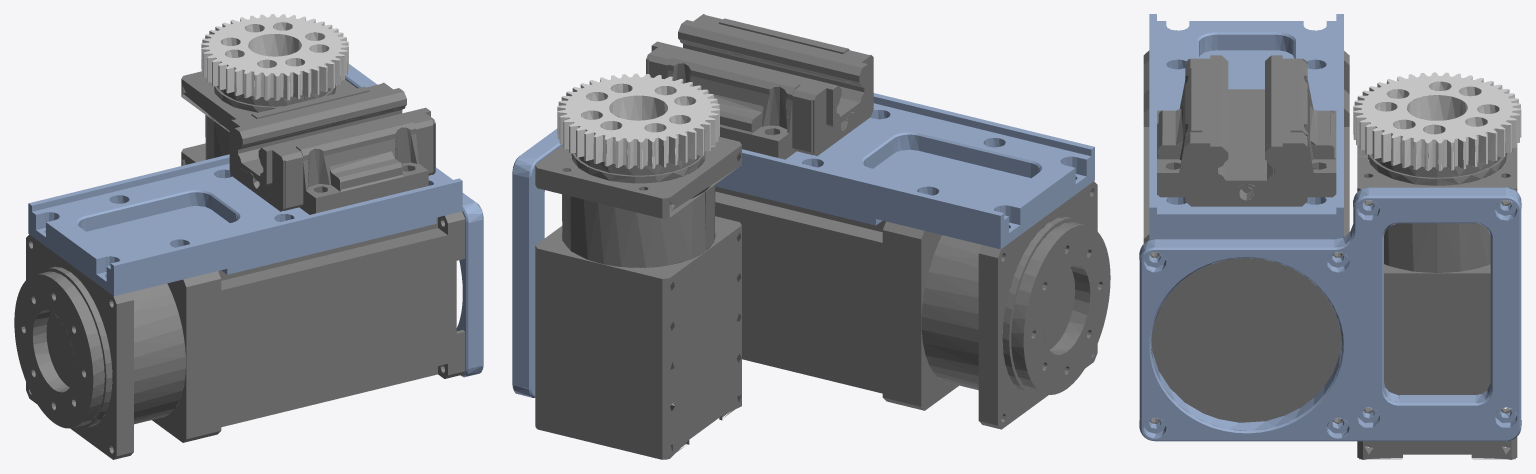
File: robotis_arm_base.dae
3 renders of one model, left to right at view 1: azimuth 30°, elevation 25°; view 2: azimuth 150°, elevation 25°; view 3: azimuth 270°, elevation 25°, orthographic. The views are drawn at different scales.
Parts seen in each view (by area): view 1: Untitled_011, Untitled_012, Untitled_010, Untitled_001, Untitled, Untitled_002, Untitled_008; view 2: Untitled_011, Untitled_002, Untitled_012, Untitled_010, Untitled_005, Untitled_001, Untitled, Untitled_008; view 3: Untitled, Untitled_011, Untitled_010, Untitled_012, Untitled_003, Untitled_001, Untitled_002.
Boxes of the visible parts, box(x1,y1,x2,y2) form: Untitled_011: box(14, 211, 465, 459); Untitled_012: box(28, 154, 462, 296); Untitled_010: box(229, 82, 435, 214); Untitled_001: box(201, 14, 348, 100); Untitled: box(335, 64, 483, 377); Untitled_002: box(181, 71, 356, 165); Untitled_008: box(181, 79, 235, 130); Untitled_011: box(715, 181, 1110, 429); Untitled_002: box(535, 137, 741, 459); Untitled_012: box(715, 93, 1094, 249); Untitled_010: box(646, 14, 873, 159); Untitled_005: box(669, 225, 741, 458); Untitled_001: box(557, 73, 719, 169); Untitled: box(512, 128, 571, 397); Untitled_008: box(670, 145, 741, 210); Untitled: box(1139, 187, 1521, 441); Untitled_011: box(1143, 50, 1349, 428); Untitled_010: box(1157, 55, 1336, 206); Untitled_012: box(1149, 14, 1343, 240); Untitled_003: box(1363, 273, 1511, 459); Untitled_001: box(1353, 72, 1521, 170); Untitled_002: box(1357, 143, 1517, 459).
Bounding box in the file's own units: 0.132 × 0.1003 × 0.092.
